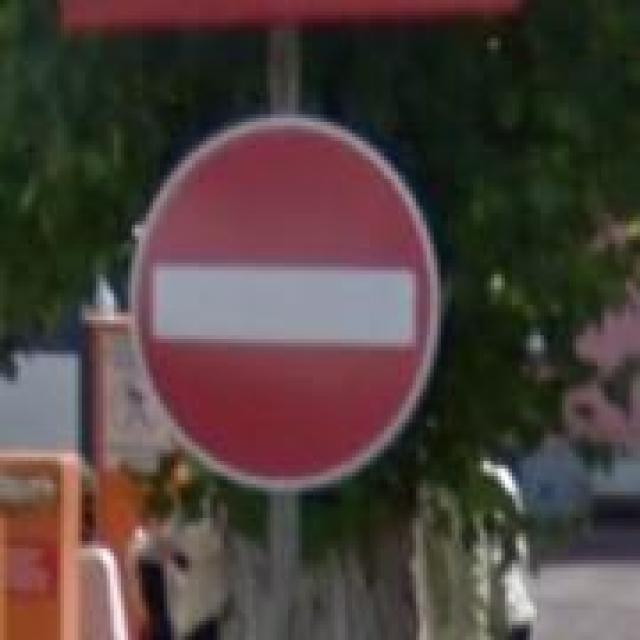traffic_sign: (131, 110, 441, 496)
